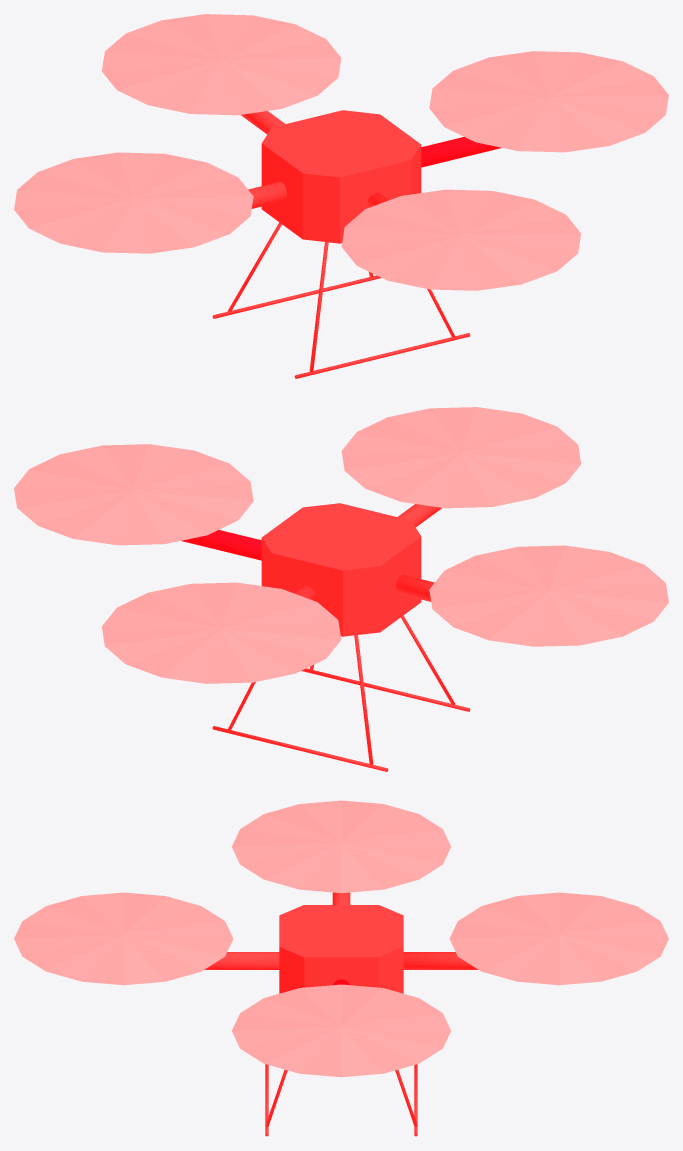
The model's file is quadrotor_base.dae.
3 renders of one model, top to bottom at view 1: azimuth 30°, elevation 25°; view 2: azimuth 150°, elevation 25°; view 3: azimuth 270°, elevation 25°, orthographic. The views are drawn at different scales.
Parts seen in each view (by area): view 1: MainBody_002; view 2: MainBody_002; view 3: MainBody_002.
Boxes of the visible parts, x1,y1,x2,y2 form: MainBody_002: [14, 14, 668, 378]; MainBody_002: [14, 407, 668, 771]; MainBody_002: [14, 800, 668, 1136].
Size of the model in its own units: 0.7911 by 0.7911 by 0.2225.
